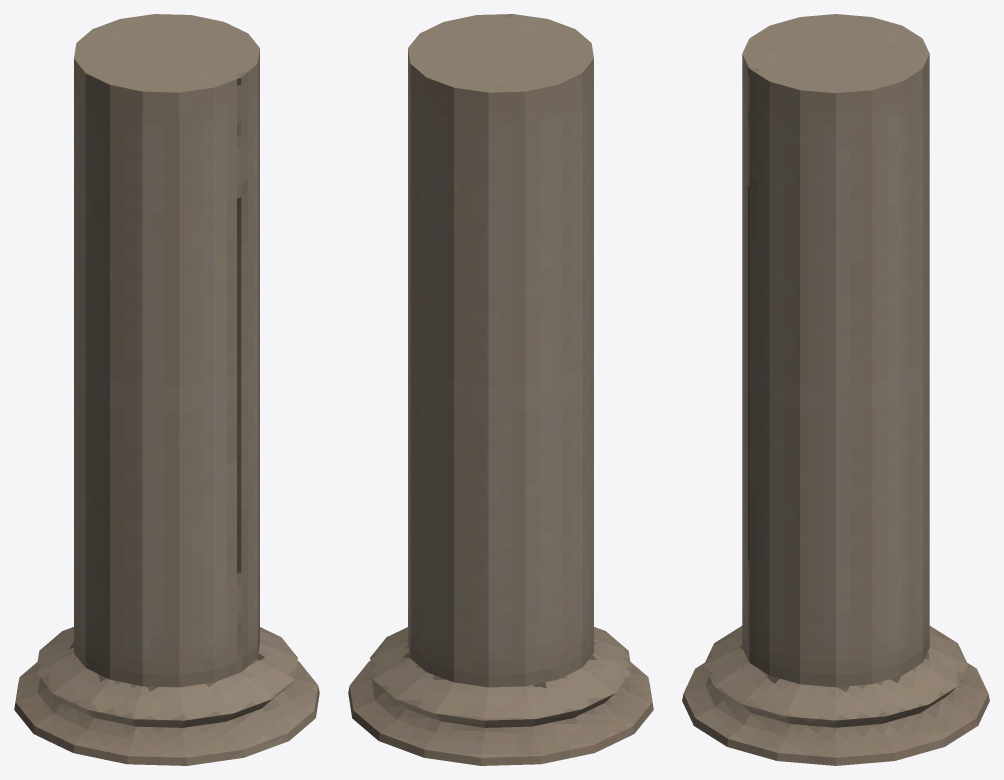
Rendered from TS1_1x1_1_Pillar.fbx.
3 views of the same model, side by side, from view 1: azimuth 30°, elevation 25°; view 2: azimuth 150°, elevation 25°; view 3: azimuth 270°, elevation 25° (orthographic).
Visible parts, largest first — view 1: Cylinder; view 2: Cylinder; view 3: Cylinder.
Part boxes in pixels (bbox=[...]): Cylinder: bbox=[14, 14, 319, 765]; Cylinder: bbox=[348, 14, 653, 765]; Cylinder: bbox=[682, 14, 989, 765].
Size of the model in its own units: 2.59 by 2.59 by 6.
Materials: 1 (1 with a texture image).
